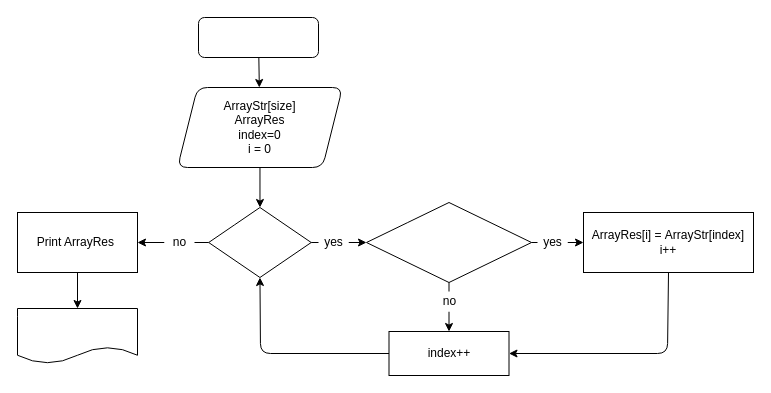
The diagram is 771 pixels wide and 393 high, and some of its shapes have lost their labels. Each missing label, with the centre of its shape:
ArrayStr[index] <= 3: the point at 449,242
END: the point at 77,336
index < size: the point at 259,242
Start: the point at 258,37
